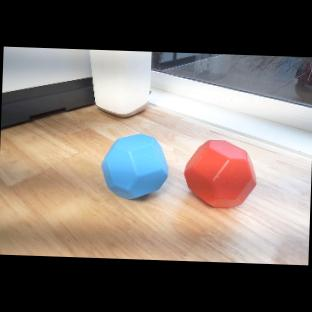V5_BLUE: (101, 132, 171, 201)
V5_RED: (182, 138, 258, 210)
